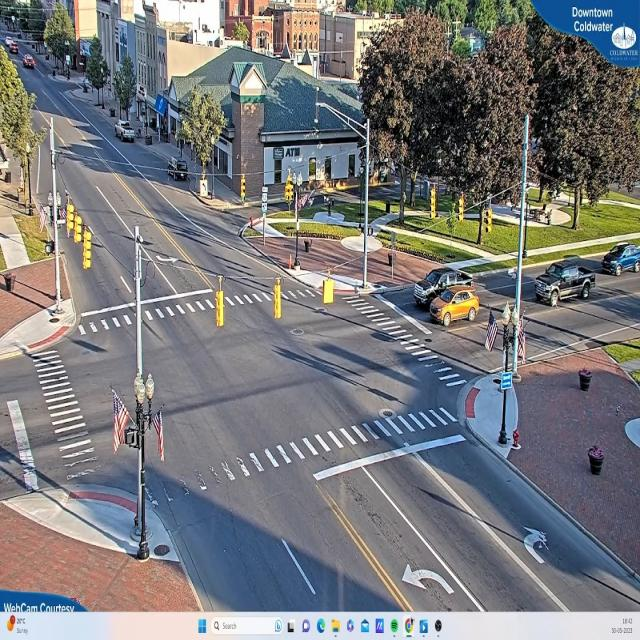car: (533, 261, 596, 308), (431, 282, 480, 326), (411, 262, 462, 301), (602, 244, 640, 275), (116, 123, 137, 143), (22, 54, 36, 70)
